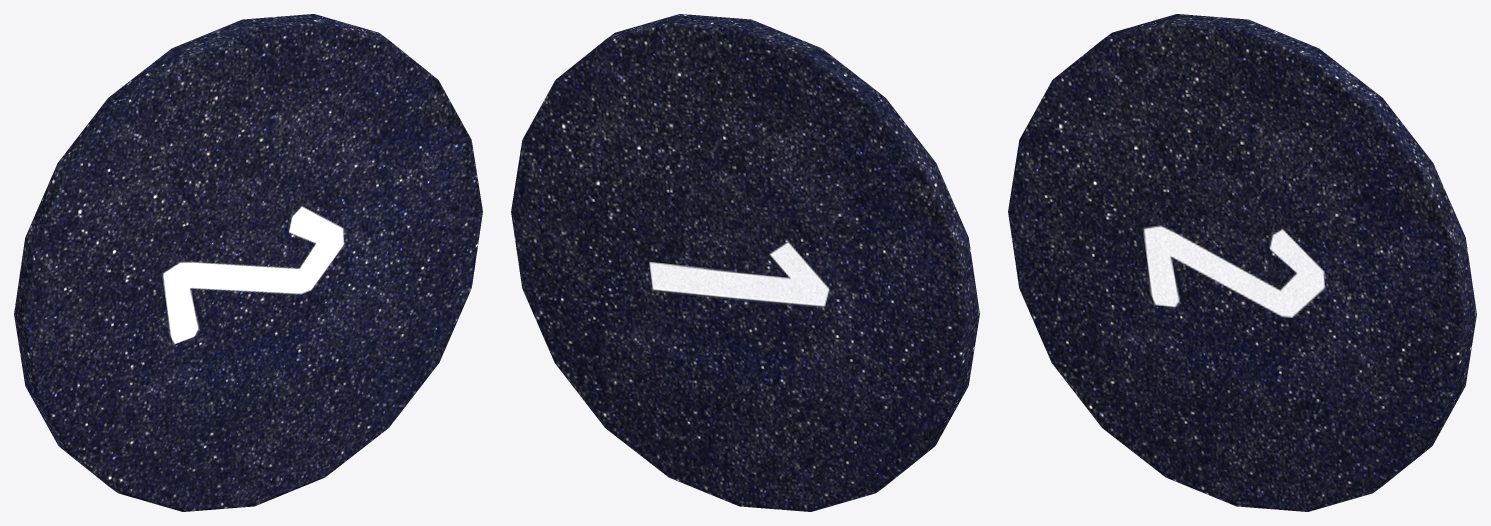
Rendered from dicemodel_d2.gltf.
3 views of the same model, side by side, from view 1: azimuth 30°, elevation 25°; view 2: azimuth 150°, elevation 25°; view 3: azimuth 330°, elevation 25° (orthographic).
Parts seen in each view (by area): view 1: dicemodel_d2; view 2: dicemodel_d2; view 3: dicemodel_d2.
Boxes of the visible parts, box(x1,y1,x2,y2) form: dicemodel_d2: box(14, 14, 482, 511); dicemodel_d2: box(511, 14, 979, 511); dicemodel_d2: box(1008, 14, 1476, 511).
Bounding box in the file's own units: 180 × 180 × 9.04.
1 material, 1 textured.
